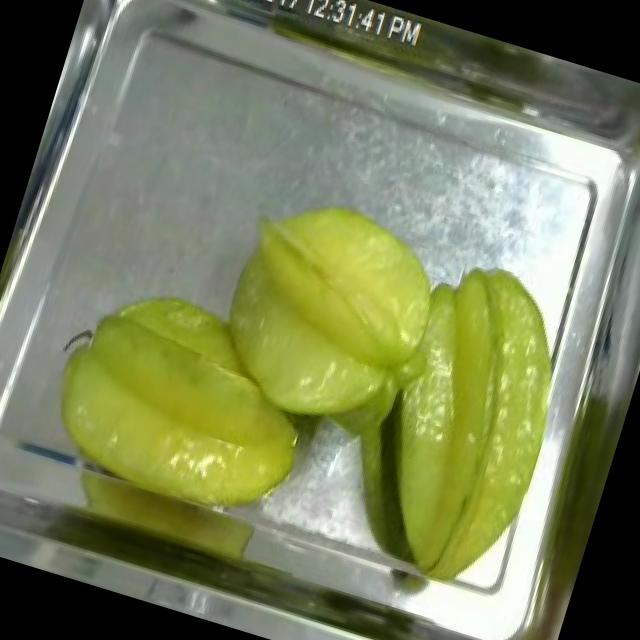fruit: (329, 233, 602, 610), (16, 255, 347, 554), (182, 167, 468, 463)
